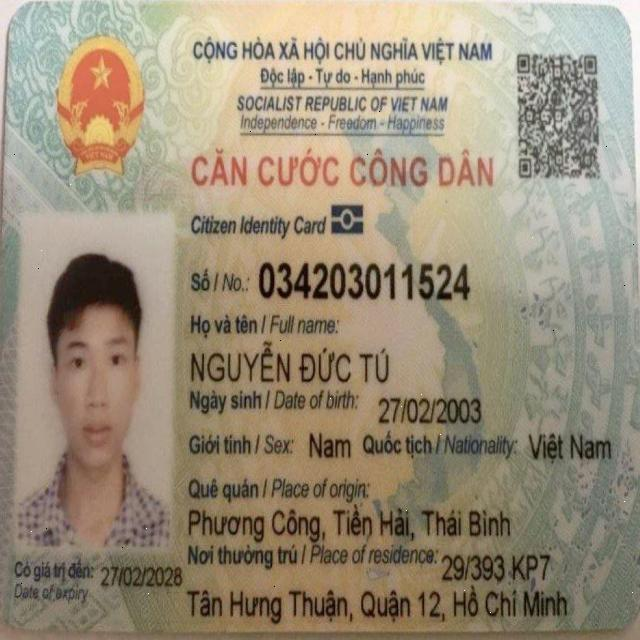current_place: (183, 583, 571, 628), (438, 548, 552, 585)
dob: (376, 392, 484, 428)
expire_date: (98, 562, 183, 590)
gender: (306, 428, 352, 463)
id: (254, 256, 473, 308)
name: (189, 339, 392, 389)
nationality: (526, 429, 614, 468)
origin_place: (185, 500, 513, 545)
